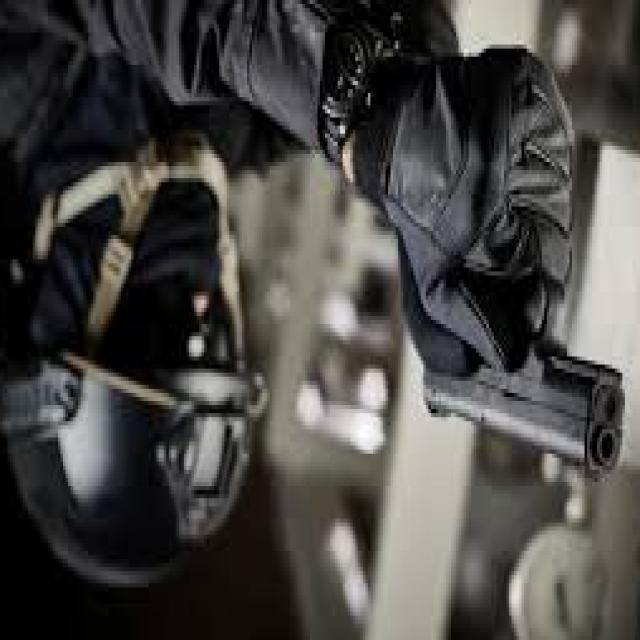Gun: (392, 219, 626, 492)
